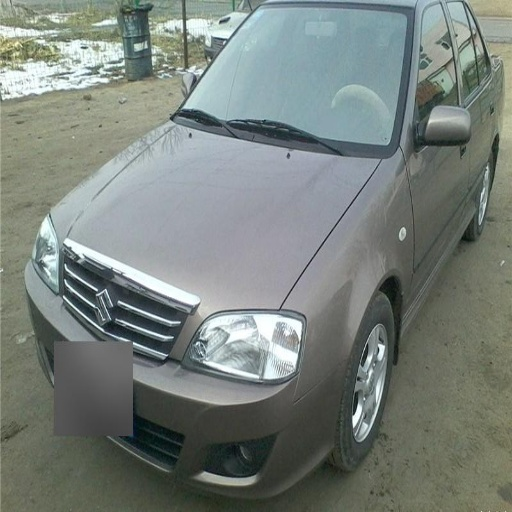front_bumper: (53, 345, 340, 499), (28, 244, 91, 343)
front_glass: (175, 5, 409, 156)
front_left_door: (413, 1, 467, 283)
front_right_light: (31, 218, 58, 287)
